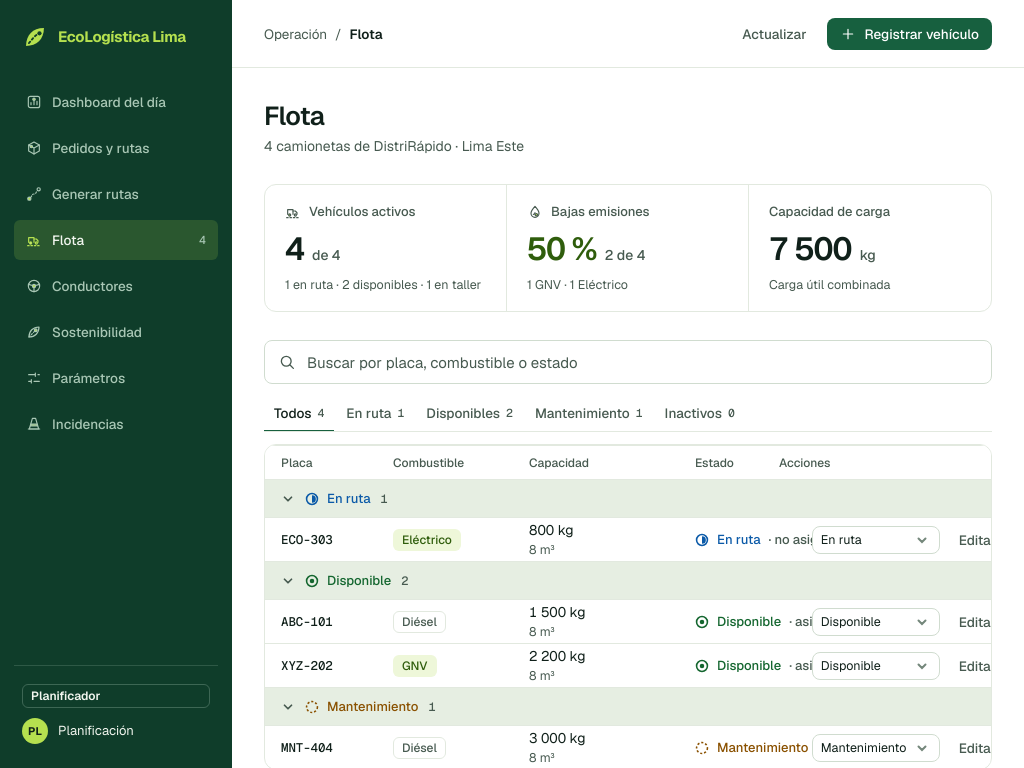
FleetView › cambia el estado desde la fila y actualiza los conteos
expect the text "MNT-404" is shown: met, box [281,738,333,756]
Step 1. Select "Inactivo" in the dropdown named "Cambiar estado de MNT-404" → (876, 748), box [812,734,940,762]
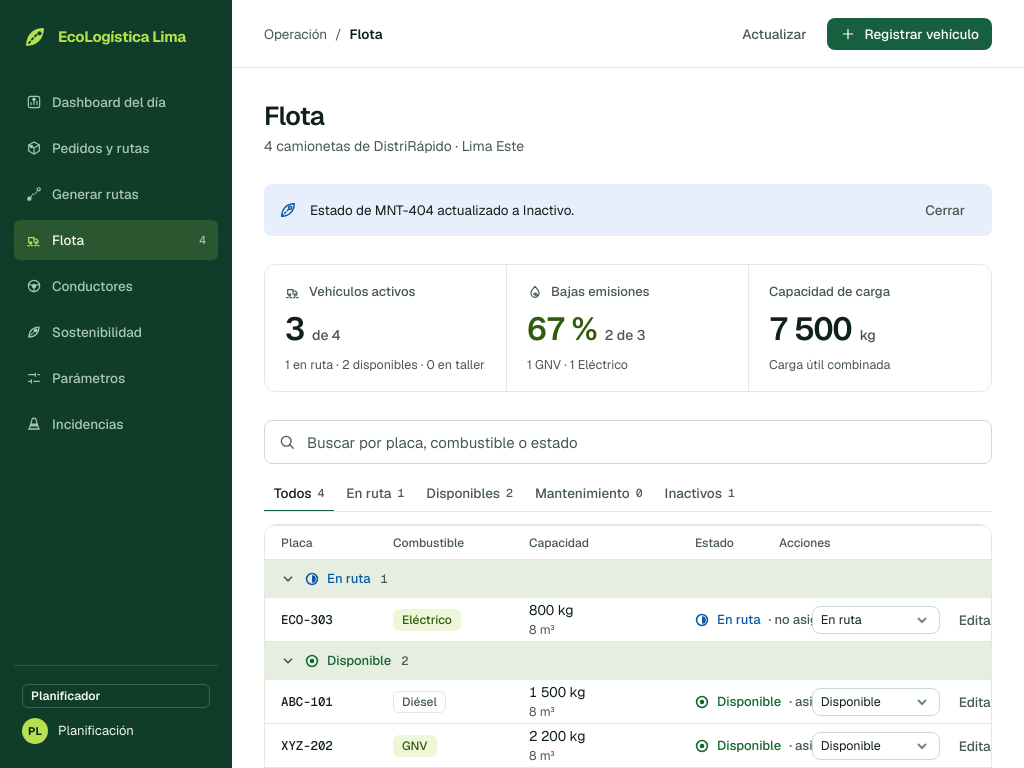
expect the text "Estado de MNT-404 actualizado a Inactivo." is shown: met, box [310,201,574,219]
expect the tab "Inactivos 1" is shown: met, box [655,476,745,512]
